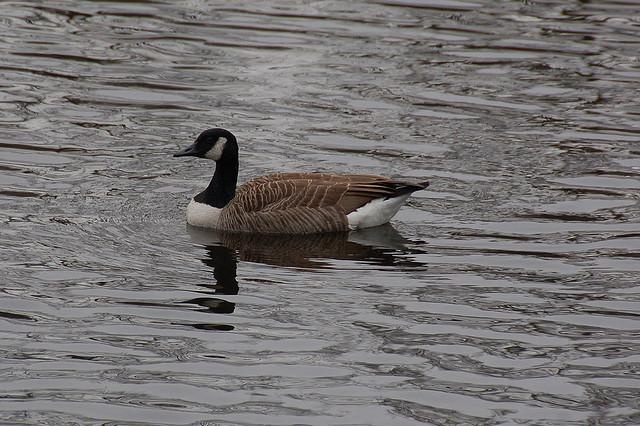bird: (170, 126, 427, 240)
